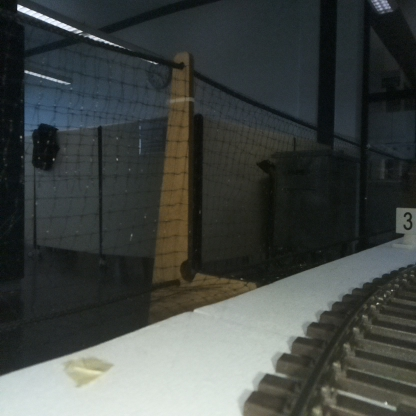white-stop-3: (396, 207, 416, 246)
